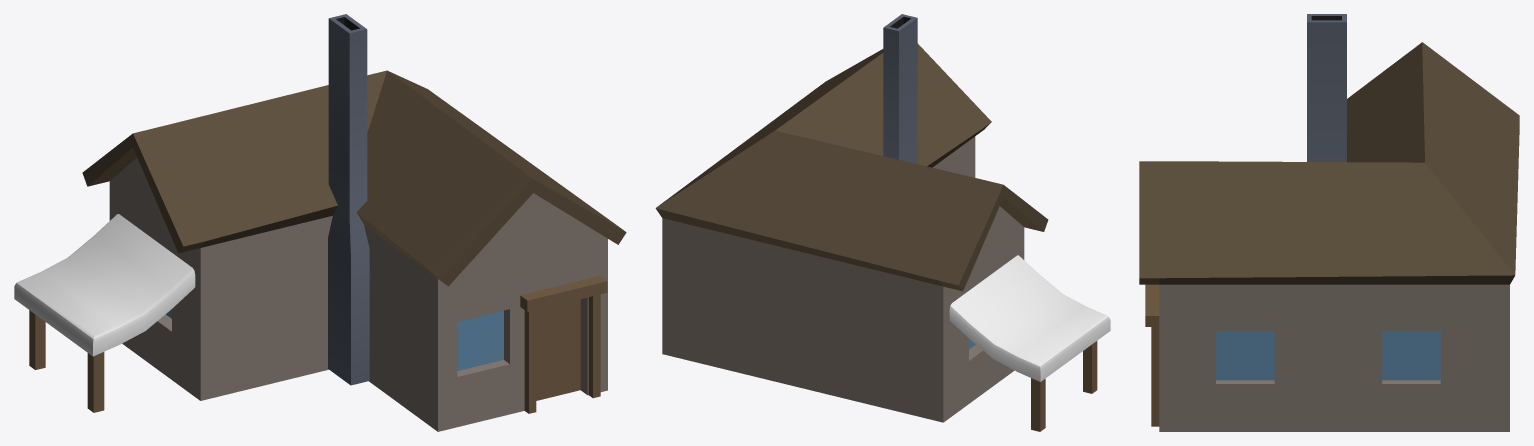
Rendered from House_2.fbx.
3 views of the same model, side by side, from view 1: azimuth 30°, elevation 25°; view 2: azimuth 150°, elevation 25°; view 3: azimuth 270°, elevation 25° (orthographic). The views are drawn at different scales.
Visible parts, largest first — view 1: House_2; view 2: House_2; view 3: House_2.
Part boxes in pixels (x1,y1,x2,y2): House_2: [14, 14, 626, 431]; House_2: [655, 14, 1110, 431]; House_2: [1139, 14, 1519, 431].
Bounding box in the file's own units: 942 × 728 × 755.
